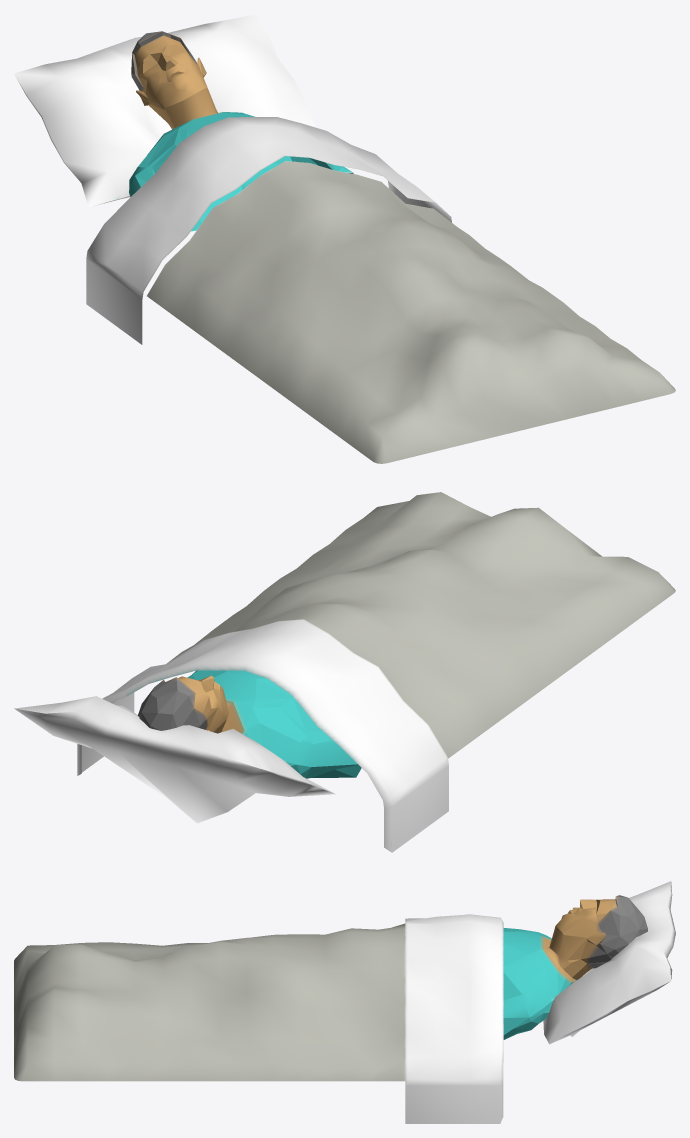
File: Patient Prone.fbx
3 renders of one model, top to bottom at view 1: azimuth 30°, elevation 25°; view 2: azimuth 150°, elevation 25°; view 3: azimuth 270°, elevation 25°, orthographic. The views are drawn at different scales.
Visible parts, largest first — view 1: Patient_Prone; view 2: Patient_Prone; view 3: Patient_Prone.
Part boxes in pixels (left/top/right/bottom): Patient_Prone: left=14, top=14, right=675, bottom=463; Patient_Prone: left=14, top=492, right=675, bottom=852; Patient_Prone: left=14, top=881, right=675, bottom=1123.
Size of the model in its own units: 0.8492 by 0.4917 by 1.86.
